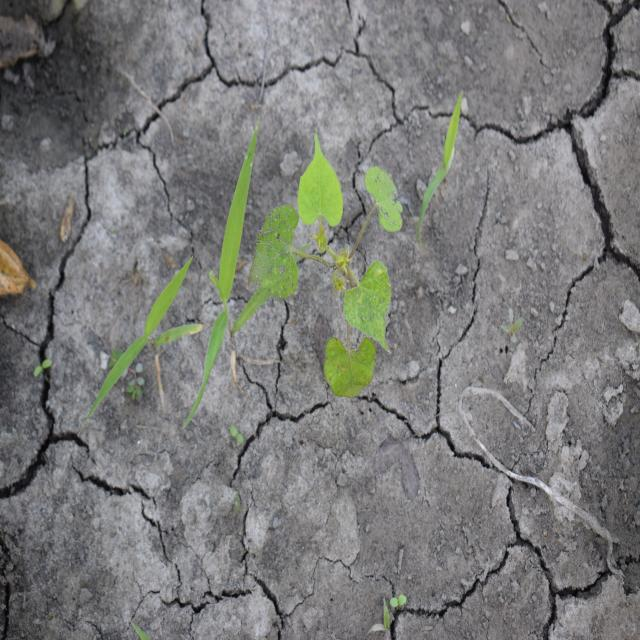MorningGlory: (246, 127, 404, 401)
